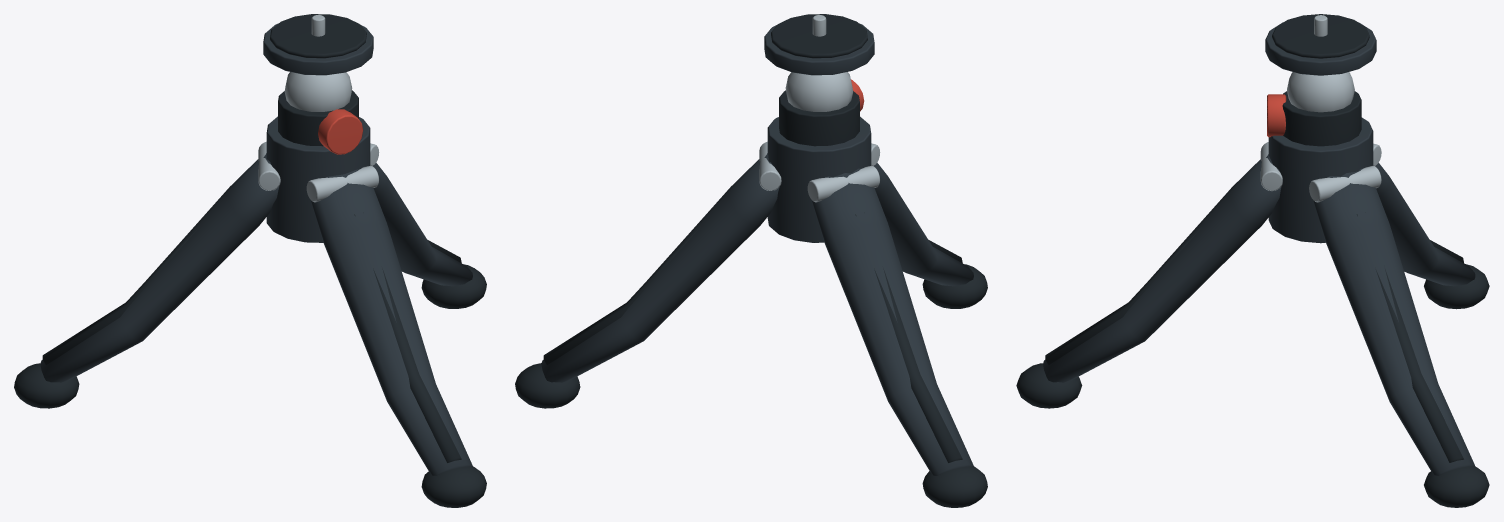
File: P059_tabletop_tripod_rebuilt.glb
The picture shows the model from 3 angles, left to right: view 1: azimuth 30°, elevation 25°; view 2: azimuth 150°, elevation 25°; view 3: azimuth 270°, elevation 25°; orthographic projection.
Parts seen in each view (by area): view 1: Graphite_molded_housing, Molded_rubber_contact_pads, Satin_aluminum_fittings, Safety_red_control; view 2: Graphite_molded_housing, Molded_rubber_contact_pads, Satin_aluminum_fittings; view 3: Graphite_molded_housing, Molded_rubber_contact_pads, Satin_aluminum_fittings, Safety_red_control.
Boxes of the visible parts, left/top/right/bottom form: Graphite_molded_housing: left=40, top=23, right=472, bottom=475; Molded_rubber_contact_pads: left=14, top=14, right=486, bottom=507; Satin_aluminum_fittings: left=258, top=15, right=379, bottom=202; Safety_red_control: left=318, top=109, right=363, bottom=154; Graphite_molded_housing: left=541, top=23, right=973, bottom=475; Molded_rubber_contact_pads: left=515, top=14, right=987, bottom=507; Satin_aluminum_fittings: left=759, top=15, right=880, bottom=202; Graphite_molded_housing: left=1043, top=22, right=1475, bottom=475; Molded_rubber_contact_pads: left=1016, top=14, right=1489, bottom=507; Satin_aluminum_fittings: left=1260, top=15, right=1381, bottom=202; Safety_red_control: left=1267, top=94, right=1286, bottom=137.
Bounding box in the file's own units: 0.472 × 0.3755 × 0.4165.
